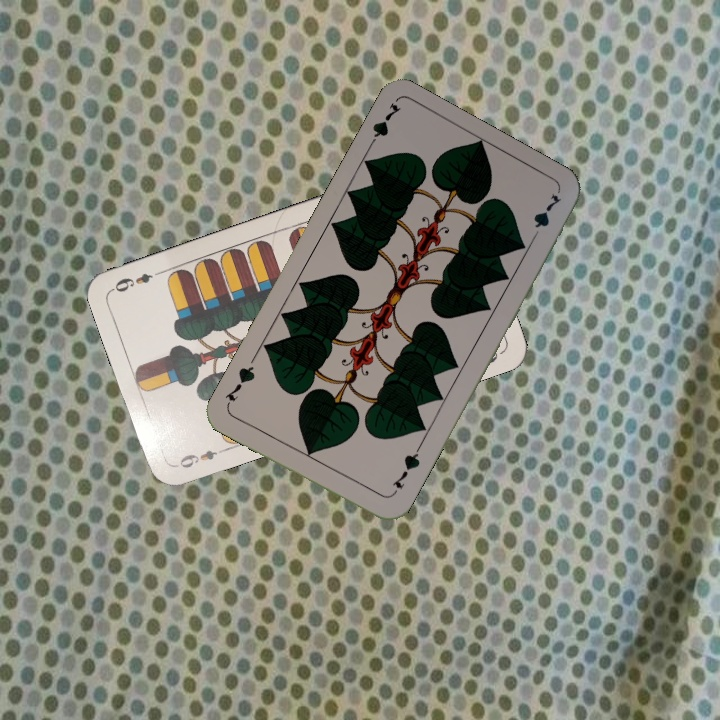E9: (175, 443, 229, 471)
G7: (362, 99, 404, 154), (388, 445, 423, 492)
